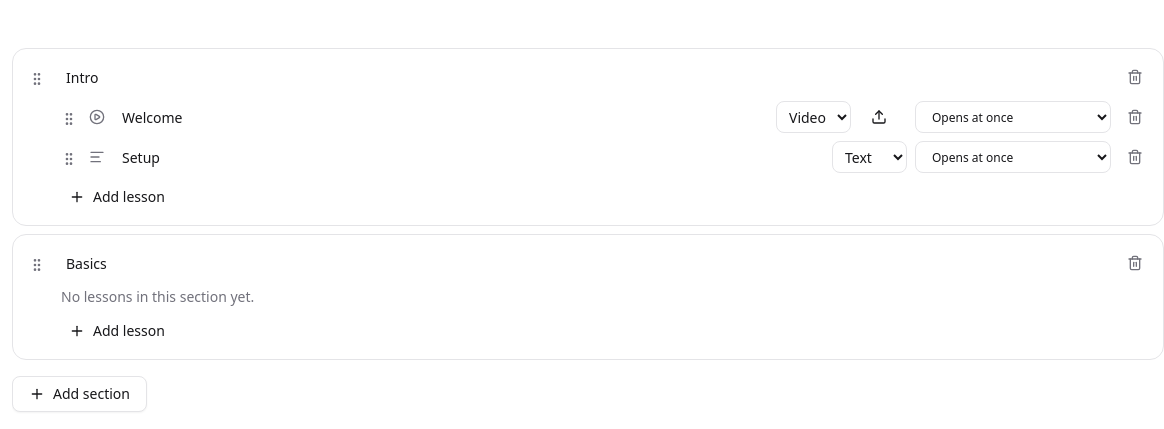
Scenario: CourseBuilder › changes a lesson's type, autosaves it and offers the matching upload
This screenshot has width=1164, height=429.
Select "PDF" in the 2nd dropdown named "Lesson type" at (870, 157), box [832,141,907,173]
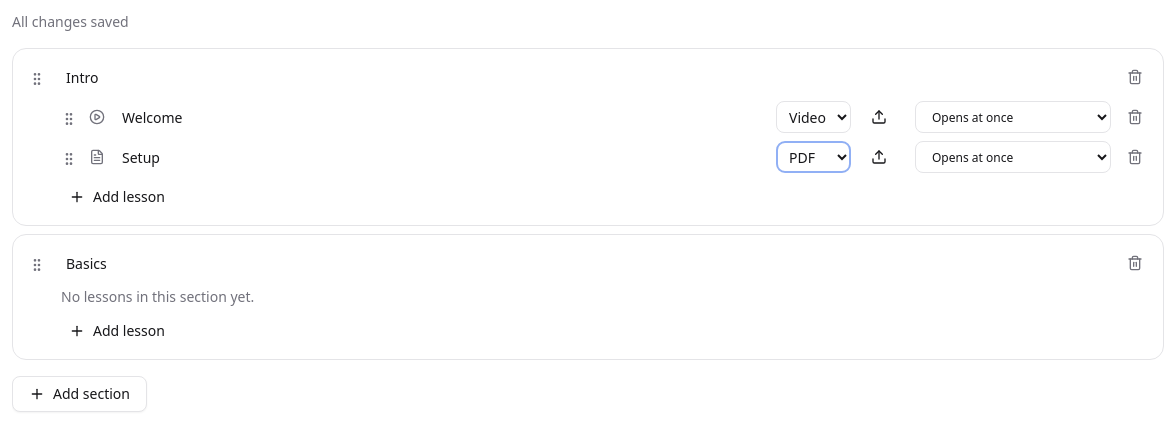
Expected: the 2nd file field named "Upload PDF for Setup" is shown, [859,141,899,173]
